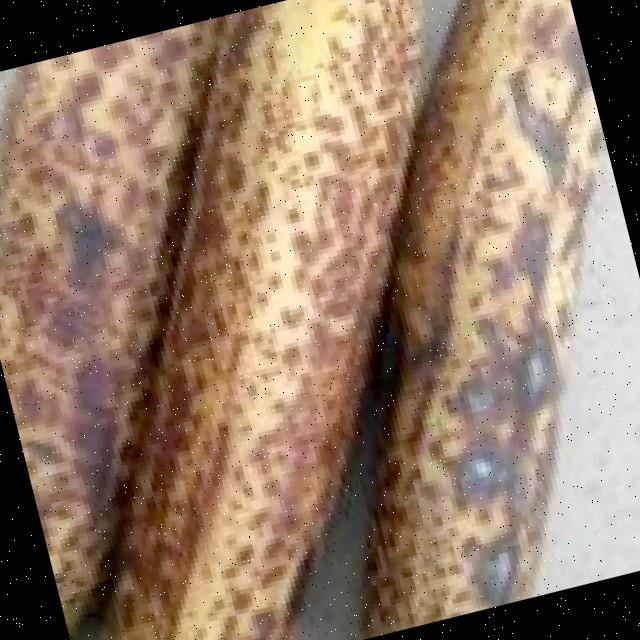Bad_Banana-0 day: (0, 0, 602, 640)
